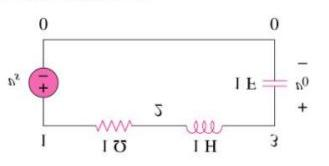Capacitor: (254, 70, 289, 94)
